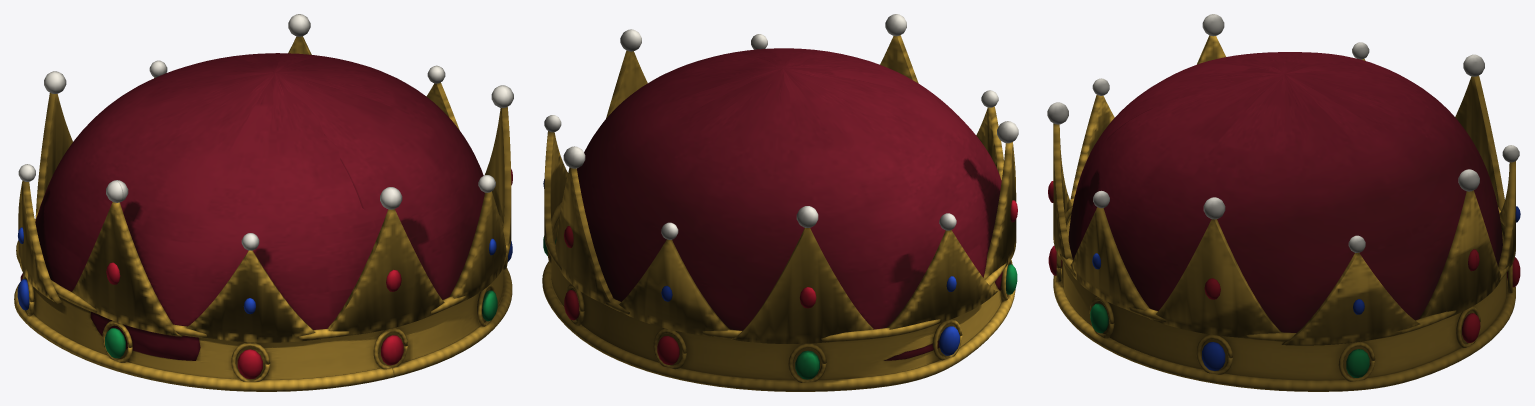
Rendered from crown_male_lo.glb.
3 views of the same model, side by side, from view 1: azimuth 30°, elevation 25°; view 2: azimuth 150°, elevation 25°; view 3: azimuth 270°, elevation 25° (orthographic). The views are drawn at different scales.
Parts seen in each view (by area): view 1: crown_lo; view 2: crown_lo; view 3: crown_lo.
Part boxes in pixels (x1,y1,x2,y2): crown_lo: (14,14,513,391); crown_lo: (542,14,1018,391); crown_lo: (1047,14,1520,391).
Bounding box in the file's own units: 0.6096 × 0.3135 × 0.595.
Materials: 1 (1 with a texture image).
